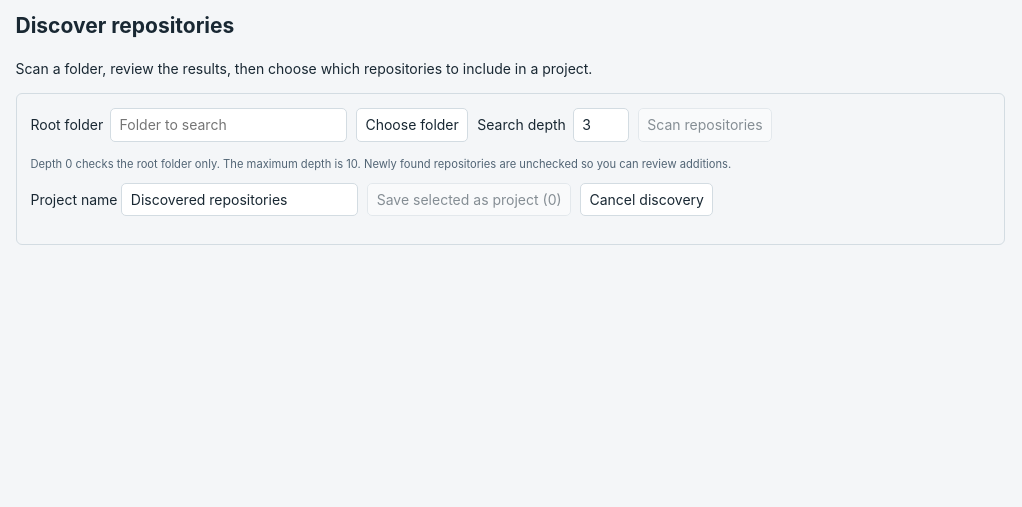
Test case: Discovery renderer › preserves trailing whitespace in a folder chosen by the native picker
The image size is (1022, 507).
Click the button "Choose folder". click: {"x": 412, "y": 125}
box: [356, 108, 468, 142]
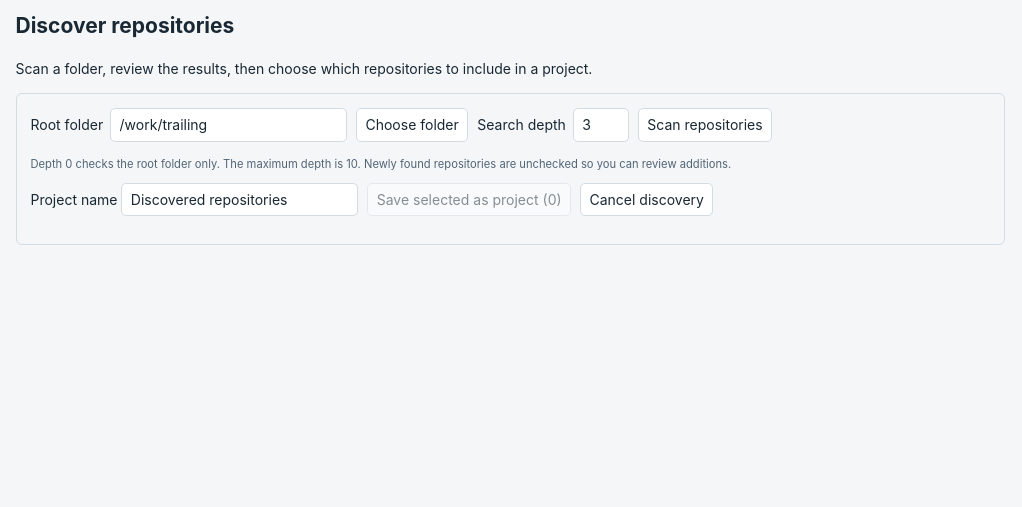
Check: the field labelled "Root folder" holds "/work/trailing ", box [110, 108, 347, 142]
Click the button "Scan repositories". click: {"x": 705, "y": 125}
box: [638, 108, 772, 142]
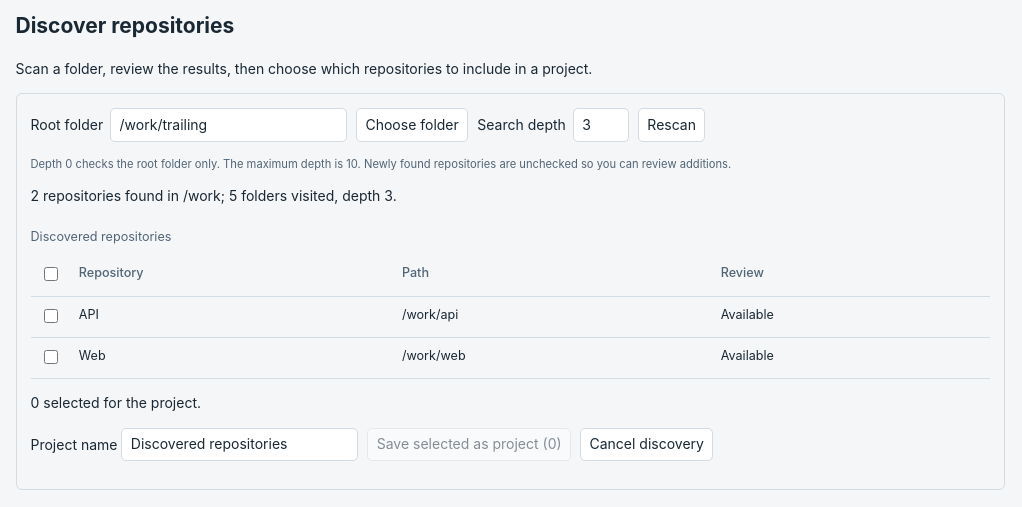
Check: the checkbox named "Include API" is shown, box [44, 309, 58, 323]
